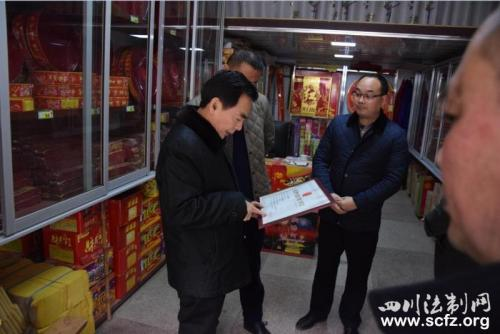boots: (295, 311, 328, 330), (243, 319, 271, 334), (343, 317, 362, 334)
person: (295, 72, 410, 333), (155, 68, 267, 333), (178, 47, 276, 333)
